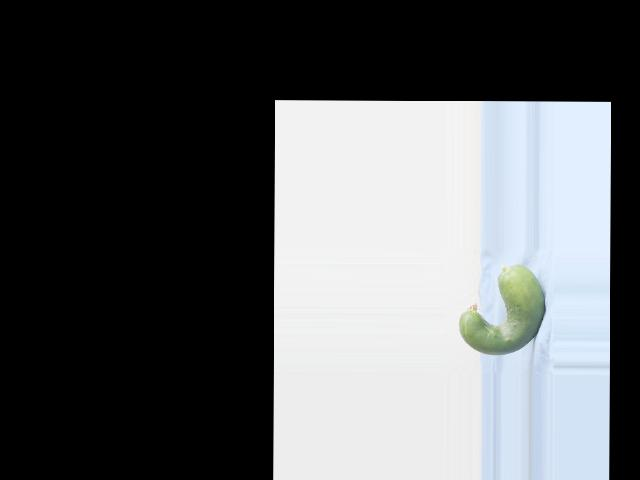cucumber: (459, 264, 545, 355)
